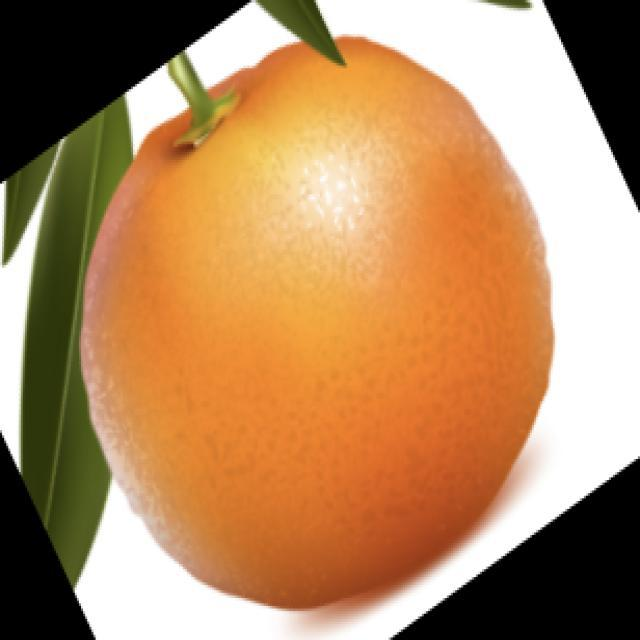matang: (81, 37, 551, 608)
